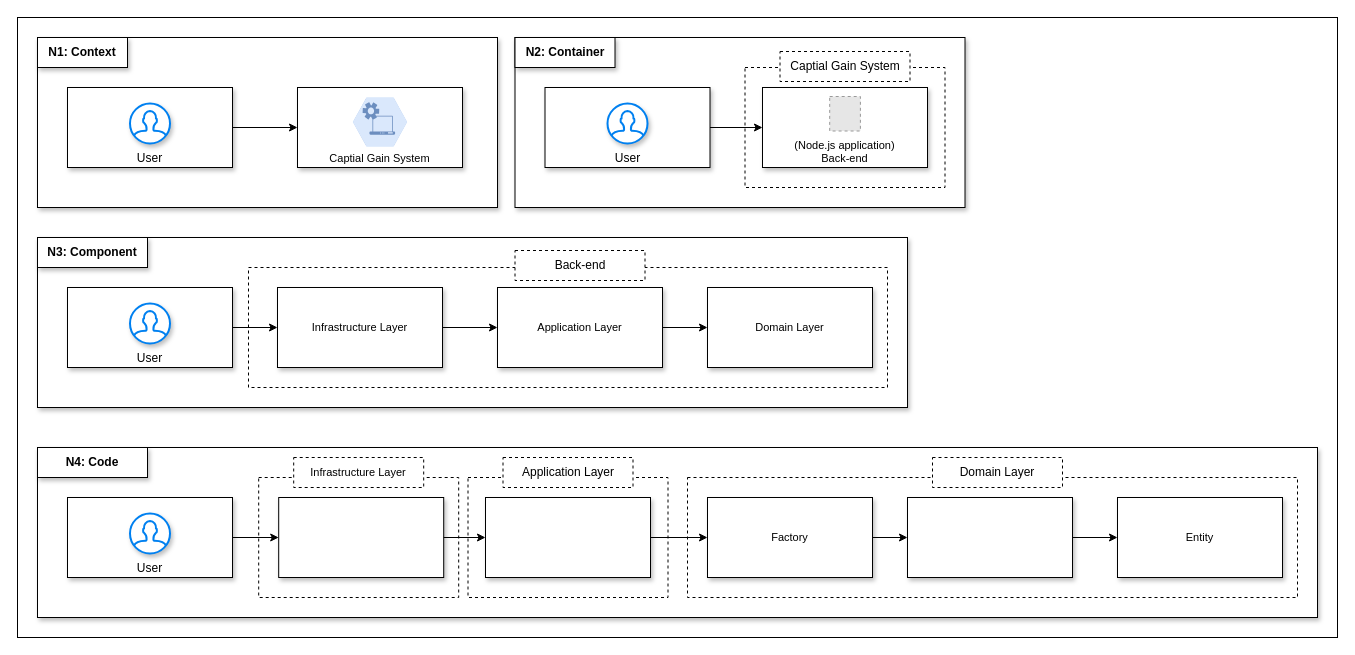
Image size: 1355x655. Some labels were removed from this diagram. Grey dashed boxes stand in for pictures. The shapes that lost their labels are listed below. From the top down, each one's centre as x and y in pixels, then its label:
At pixel 362 538: "CLI Interface".
At pixel 568 538: "Use Case".
At pixel 990 538: "Strategy".
